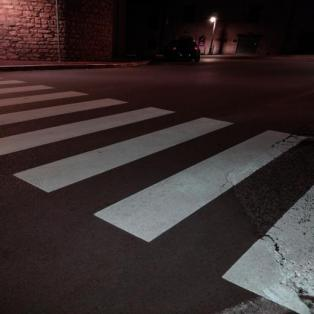Paso de Cebra: (11, 113, 313, 249)
